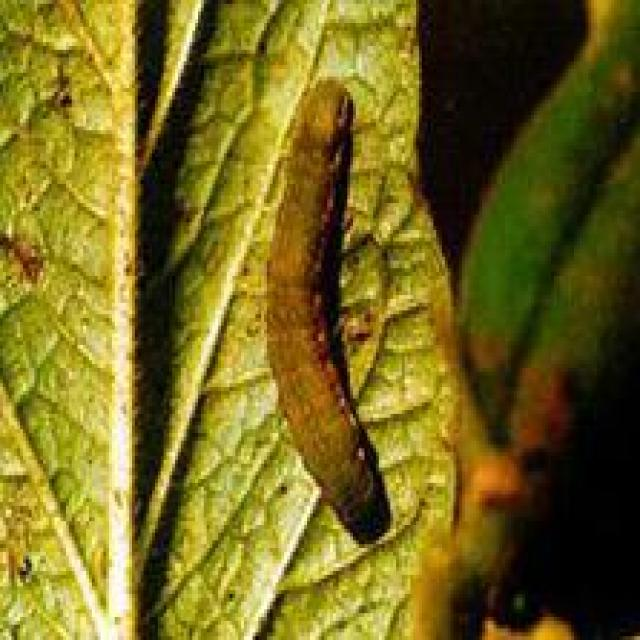BeetArmyWorm-Larva-: (254, 66, 395, 544)
